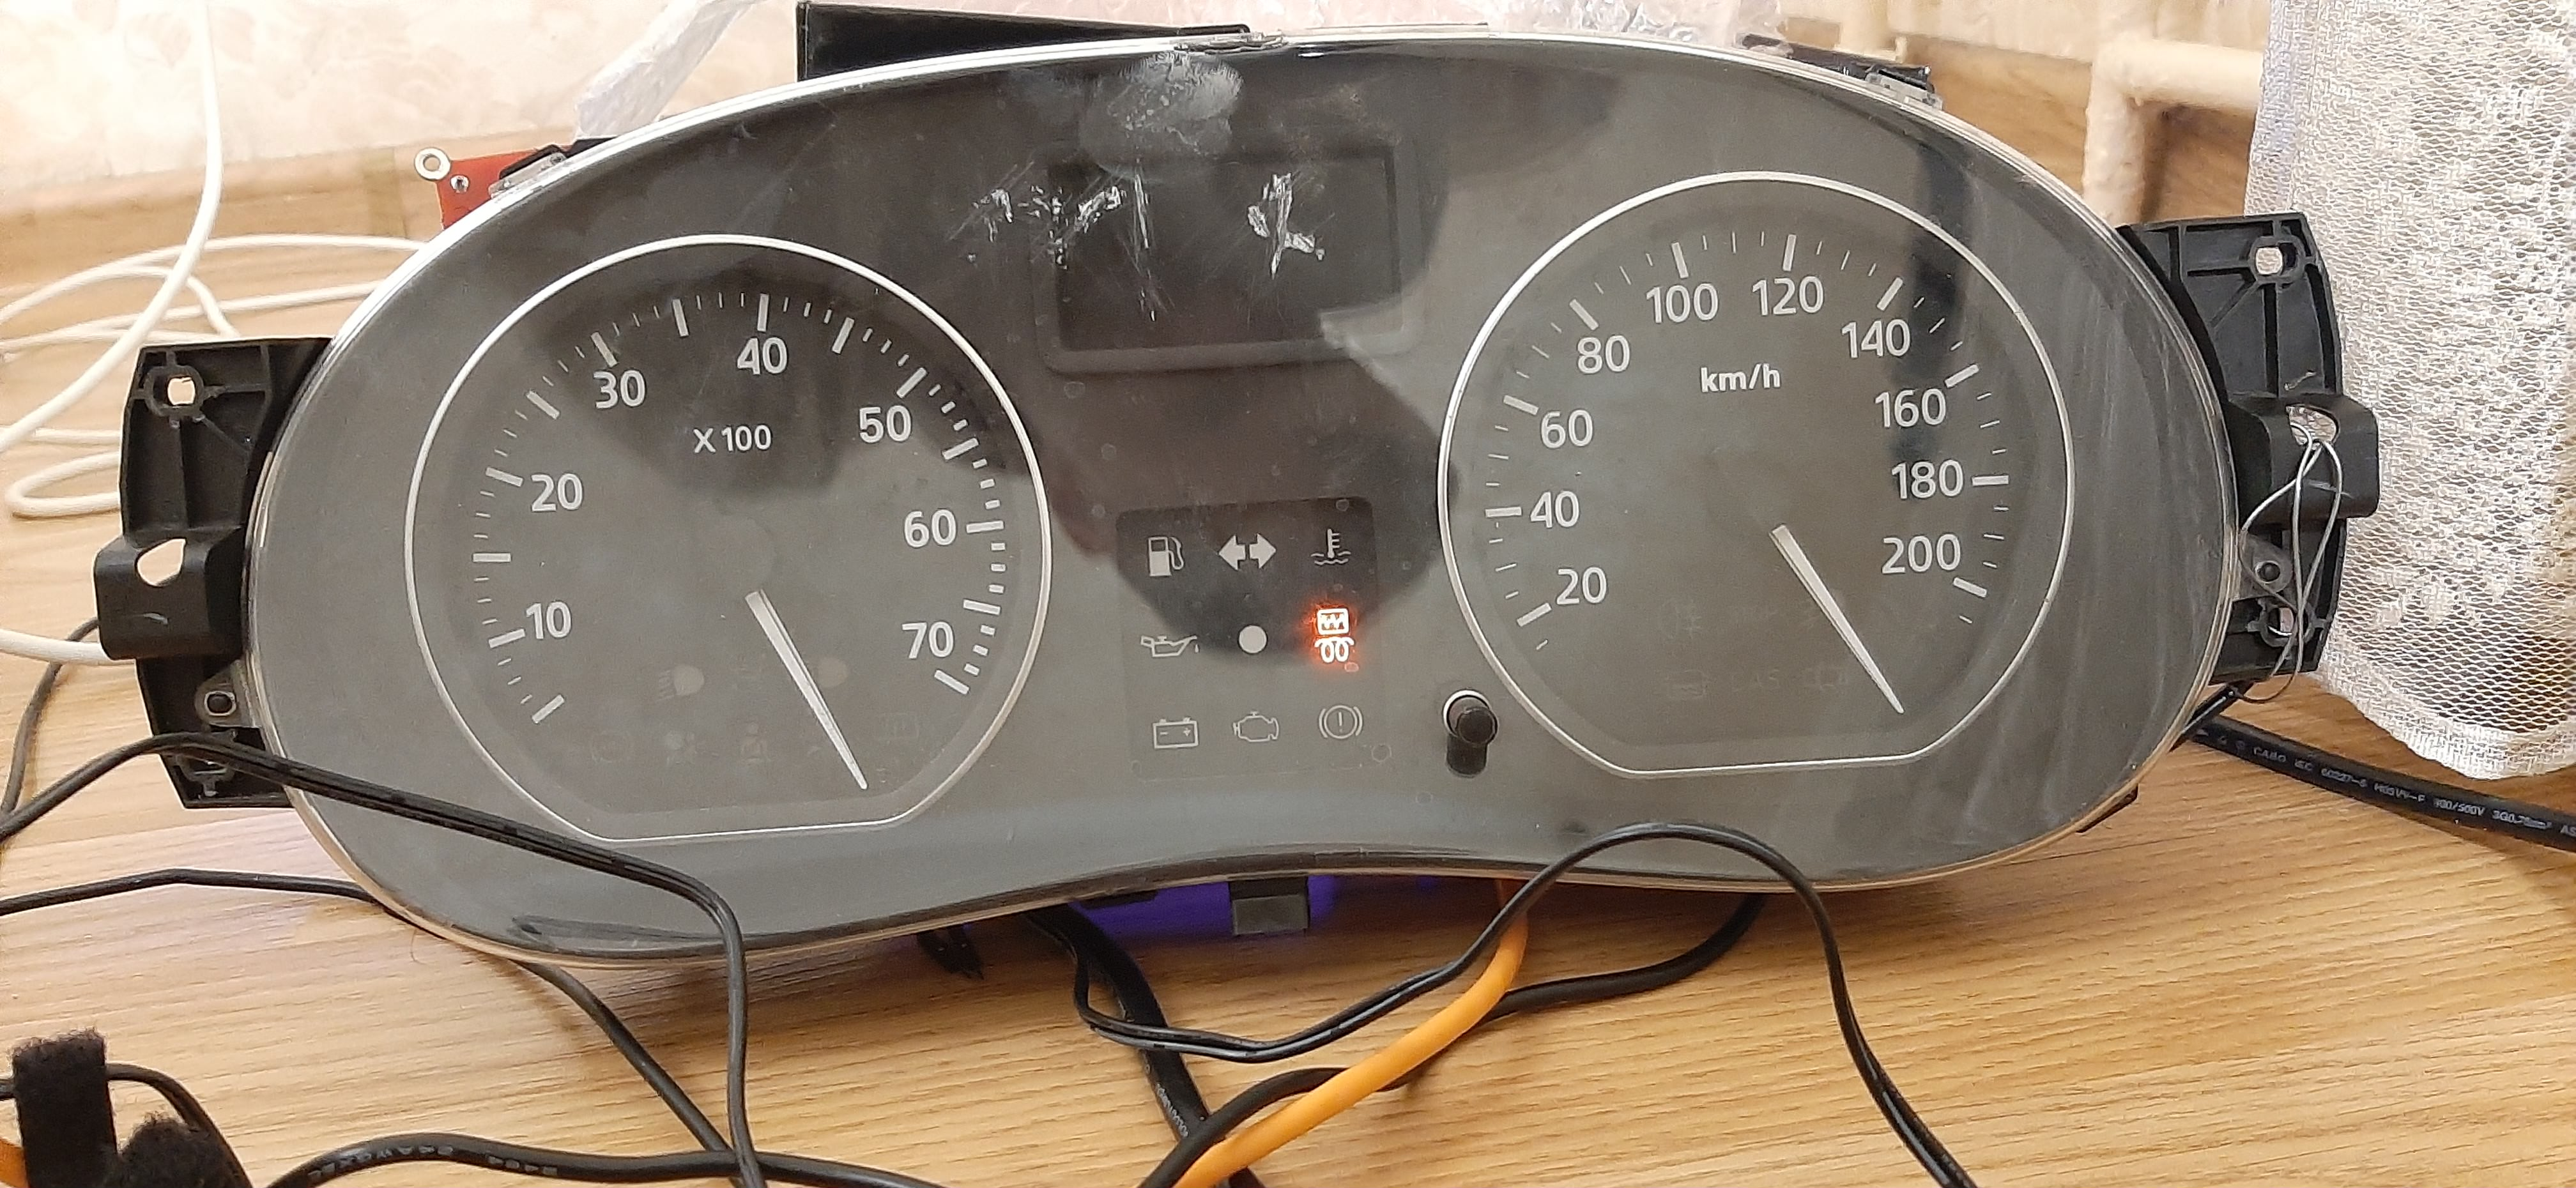diesel1: (1313, 606, 1357, 665)
